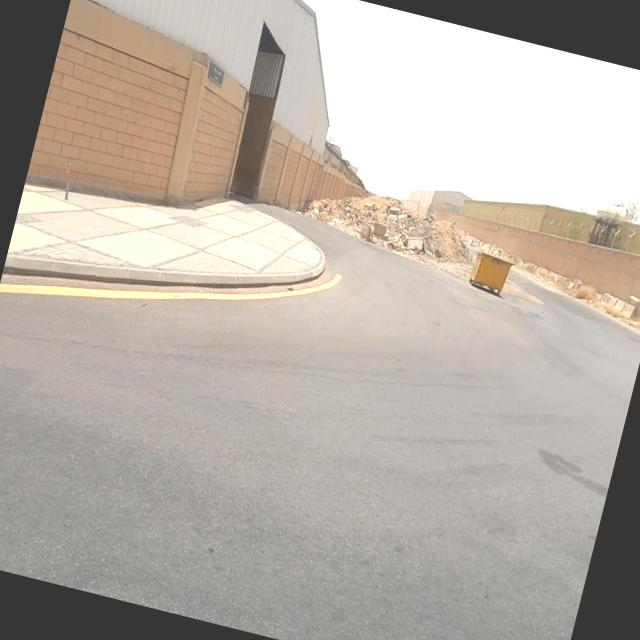debris: (336, 165, 426, 276), (378, 187, 472, 287), (272, 167, 354, 252)
